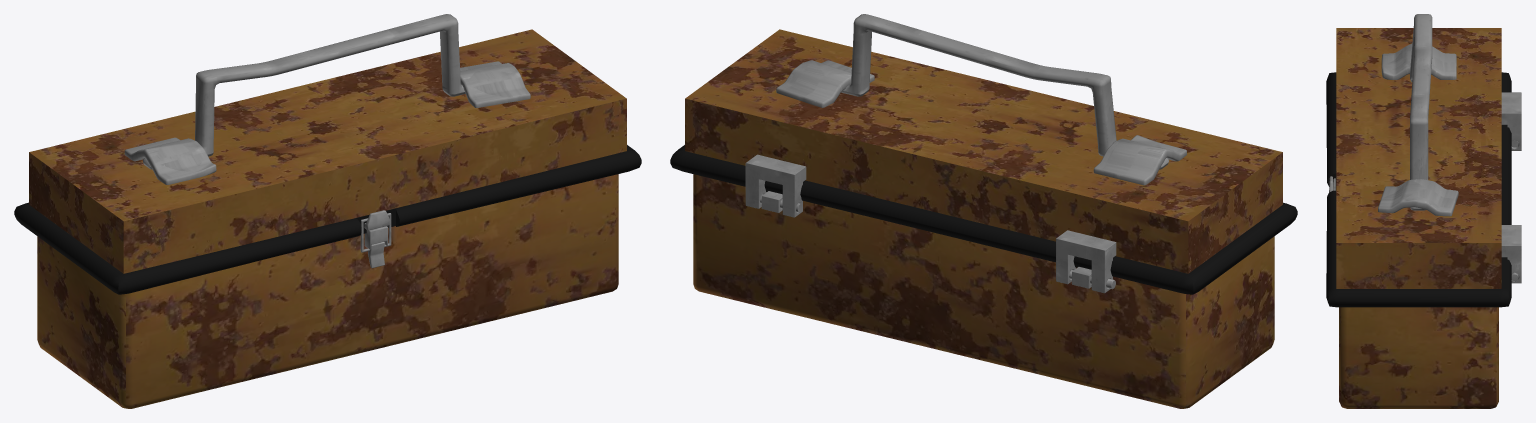
File: toolbox-rusty.glb
The picture shows the model from 3 angles, left to right: view 1: azimuth 30°, elevation 25°; view 2: azimuth 150°, elevation 25°; view 3: azimuth 270°, elevation 25°; orthographic projection. The views are drawn at different scales.
Visible parts, largest first — view 1: box cover lp, mainLP, cover trim cage, handle lp, KlepkiLow.Cage, lock lp; view 2: box cover lp, mainLP, cover trim cage, handle lp, back lockers lp, KlepkiLow.Cage; view 3: box cover lp, mainLP, cover trim cage, KlepkiLow.Cage, handle lp, back lockers lp.
Part boxes in pixels (left/top/right/bottom): box cover lp: left=29, top=29, right=626, bottom=273; mainLP: left=37, top=174, right=618, bottom=408; cover trim cage: left=14, top=145, right=641, bottom=294; handle lp: left=143, top=14, right=465, bottom=169; KlepkiLow.Cage: left=124, top=61, right=530, bottom=184; lock lp: left=360, top=210, right=391, bottom=268; box cover lp: left=685, top=29, right=1282, bottom=273; mainLP: left=693, top=174, right=1274, bottom=408; cover trim cage: left=670, top=145, right=1297, bottom=294; handle lp: left=841, top=14, right=1168, bottom=169; back lockers lp: left=745, top=154, right=1116, bottom=293; KlepkiLow.Cage: left=776, top=60, right=1186, bottom=185; box cover lp: left=1336, top=28, right=1501, bottom=288; mainLP: left=1339, top=307, right=1498, bottom=408; cover trim cage: left=1326, top=72, right=1511, bottom=307; KlepkiLow.Cage: left=1378, top=43, right=1458, bottom=216; handle lp: left=1410, top=14, right=1432, bottom=210; back lockers lp: left=1501, top=92, right=1521, bottom=283.
Bounding box in the file's own units: 0.5 × 0.2488 × 0.1838.
Materials: 7 (6 with a texture image).
